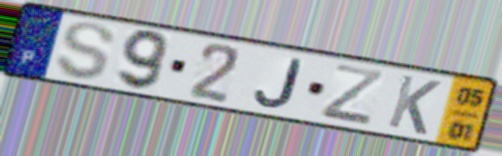2: (185, 43, 242, 106)
9: (113, 29, 171, 92)
J: (252, 56, 306, 111)
K: (384, 72, 444, 138)
S: (53, 20, 118, 82)
Z: (317, 61, 387, 128)
